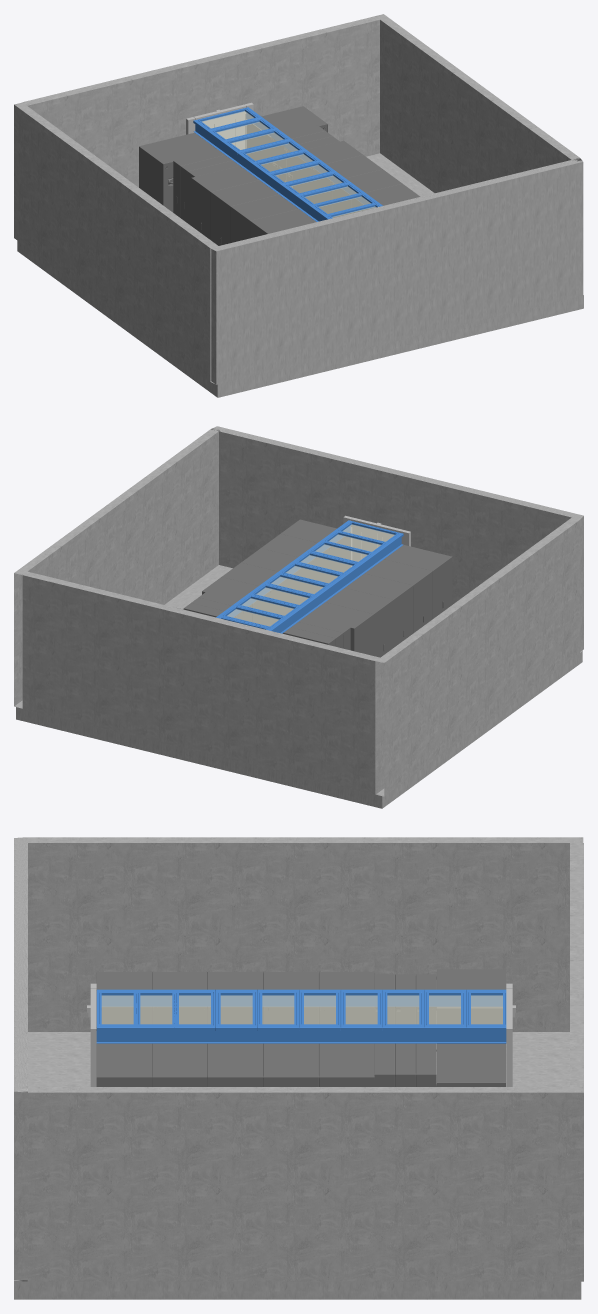
The model's file is level5.glb.
3 views of the same model, one above another, from view 1: azimuth 30°, elevation 25°; view 2: azimuth 150°, elevation 25°; view 3: azimuth 270°, elevation 25° (orthographic). The views are drawn at different scales.
Visible parts, largest first — view 1: 基本墙 常规 - 200mm [738018], 基本墙 常规 - 200mm [738101], 基本墙 常规 - 200mm [738316], 基本墙 常规 - 200mm [738182], 楼板 常规 - 300mm [738371], P1040(双压缩机）DAW PEX+ 风冷标准机型（R22_ad63937, SR-E081220TS SR-E081220TS [769987], SR-E081220TS SR-E081220TS [770102], P1040(双压缩机）DAW PEX+ 风冷标准机型（R22_b202c06, SR-E081220TS SR-E081220TS [770177], SR-E081220TS SR-E081220TS [778926], SR-E081220TS SR-E081220TS [778927] (+16 smaller); view 2: 基本墙 常规 - 200mm [738316], 基本墙 常规 - 200mm [738101], 基本墙 常规 - 200mm [738018], 基本墙 常规 - 200mm [738182], 楼板 常规 - 300mm [738371], SR-E081220TS SR-E081220TS [775174], SR-E081220TS SR-E081220TS [770177], SR-E081220TS SR-E081220TS [775158], SR-E081220TS SR-E081220TS [770102], SR-E081220TS SR-E081220TS [769987], SR-E081220TS SR-E081220TS [778932], SR-E081220TS SR-E081220TS [778927] (+14 smaller); view 3: 基本墙 常规 - 200mm [738182], 基本墙 常规 - 200mm [738101], 楼板 常规 - 300mm [738371], 基本墙 常规 - 200mm [738018], 基本墙 常规 - 200mm [738316], P1040(双压缩机）DAW PEX+ 风冷标准机型（R22_b202c06, SR-E081220TS SR-E081220TS [778928], SR-E081220TS SR-E081220TS [778932], P1040(双压缩机）DAW PEX+ 风冷标准机型（R22_ad63937, SR-E081220TS SR-E081220TS [778927], SR-E081220TS SR-E081220TS [778931], SR-E081220TS SR-E081220TS [778926] (+21 smaller).
Boxes of the visible parts, box(x1,y1,x2,y2) form: 基本墙 常规 - 200mm [738018]: box(210, 158, 583, 384); 基本墙 常规 - 200mm [738101]: box(14, 102, 217, 381); 基本墙 常规 - 200mm [738316]: box(22, 16, 379, 187); 基本墙 常规 - 200mm [738182]: box(375, 14, 579, 192); 楼板 常规 - 300mm [738371]: box(17, 153, 583, 397); P1040(双压缩机）DAW PEX+ 风冷标准机型（R22_ad63937: box(139, 132, 217, 212); SR-E081220TS SR-E081220TS [769987]: box(191, 166, 259, 239); SR-E081220TS SR-E081220TS [770102]: box(211, 180, 278, 245); P1040(双压缩机）DAW PEX+ 风冷标准机型（R22_b202c06: box(247, 106, 327, 171); SR-E081220TS SR-E081220TS [770177]: box(230, 194, 298, 242); SR-E081220TS SR-E081220TS [778926]: box(293, 140, 362, 202); SR-E081220TS SR-E081220TS [778927]: box(313, 155, 382, 213); 基本墙 常规 - 200mm [738316]: box(22, 571, 380, 794); 基本墙 常规 - 200mm [738101]: box(375, 517, 580, 796); 基本墙 常规 - 200mm [738018]: box(211, 426, 583, 652); 基本墙 常规 - 200mm [738182]: box(14, 429, 218, 708); 楼板 常规 - 300mm [738371]: box(16, 565, 582, 808); SR-E081220TS SR-E081220TS [775174]: box(384, 545, 452, 618); SR-E081220TS SR-E081220TS [770177]: box(345, 573, 413, 647); SR-E081220TS SR-E081220TS [775158]: box(365, 559, 432, 633); SR-E081220TS SR-E081220TS [770102]: box(325, 588, 393, 657); SR-E081220TS SR-E081220TS [769987]: box(306, 602, 373, 655); SR-E081220TS SR-E081220TS [778932]: box(280, 519, 350, 580); SR-E081220TS SR-E081220TS [778927]: box(222, 562, 291, 624); 基本墙 常规 - 200mm [738182]: box(28, 1087, 583, 1281); 基本墙 常规 - 200mm [738101]: box(28, 837, 583, 1031); 楼板 常规 - 300mm [738371]: box(14, 1032, 581, 1299); 基本墙 常规 - 200mm [738018]: box(14, 837, 27, 1281); 基本墙 常规 - 200mm [738316]: box(570, 843, 583, 1086); P1040(双压缩机）DAW PEX+ 风冷标准机型（R22_b202c06: box(436, 1044, 505, 1086); SR-E081220TS SR-E081220TS [778928]: box(207, 1043, 263, 1086); SR-E081220TS SR-E081220TS [778932]: box(96, 1043, 152, 1086); P1040(双压缩机）DAW PEX+ 风冷标准机型（R22_ad63937: box(436, 969, 505, 1043); SR-E081220TS SR-E081220TS [778927]: box(263, 1043, 318, 1086); SR-E081220TS SR-E081220TS [778931]: box(152, 1043, 207, 1086); SR-E081220TS SR-E081220TS [778926]: box(319, 1043, 374, 1086).
Bounding box in the file's own units: 8.7 × 3.3 × 8.2.
Materials: 5 (1 with a texture image).
